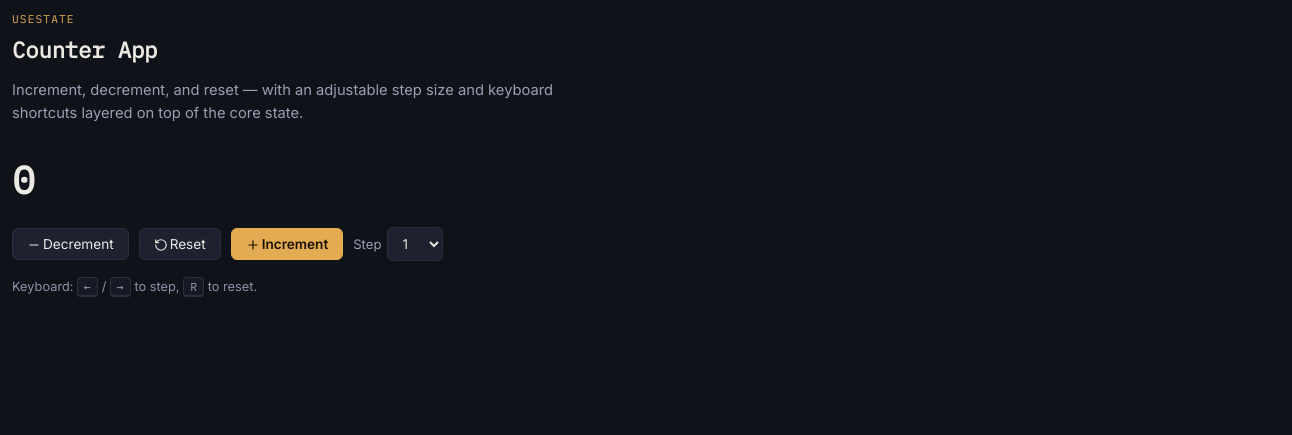
Test: Task5_CounterApp › respects a larger step size
Select "5" in the dropdown at {"x": 416, "y": 244}, box [388,227,444,261]
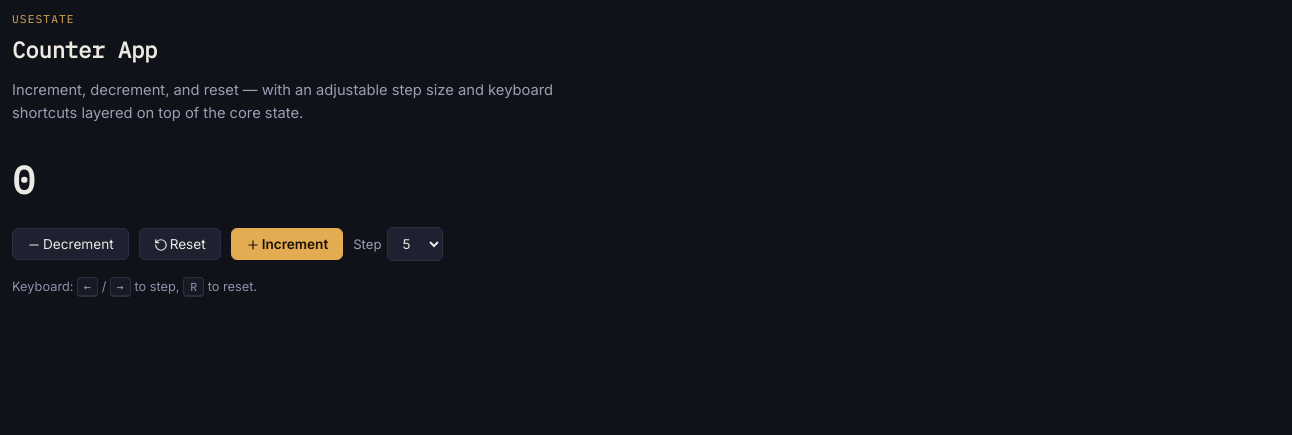
Click the button "Increment" at {"x": 287, "y": 244}, box [231,228,343,260]
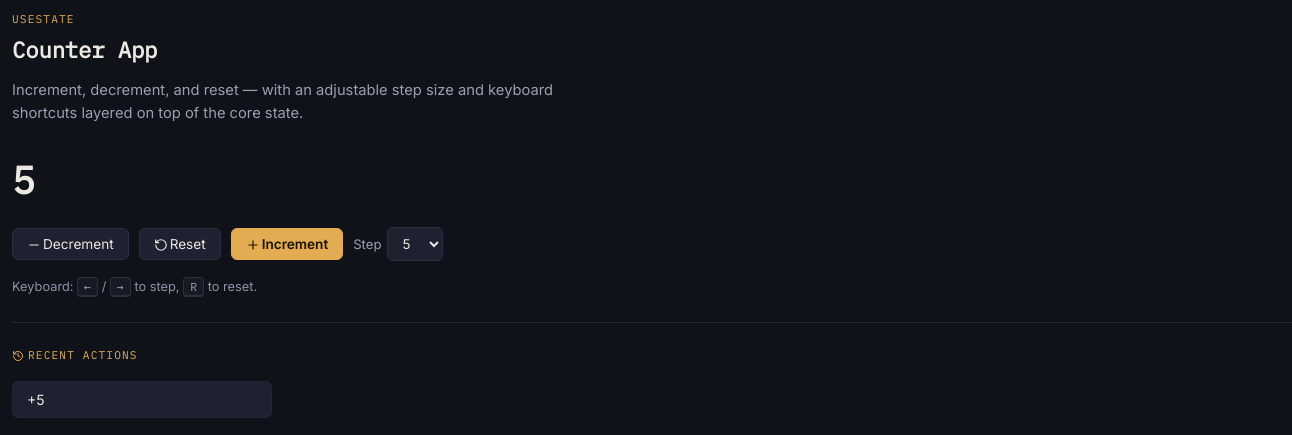
Now the text with class "counter-value" reads "5", box [12,155,35,205]
